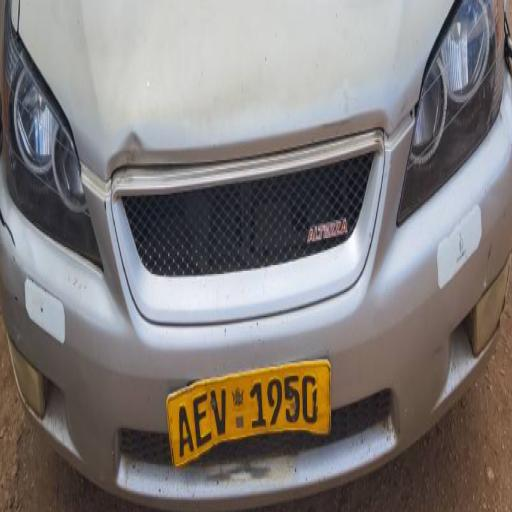number-plates: (162, 360, 338, 453)
